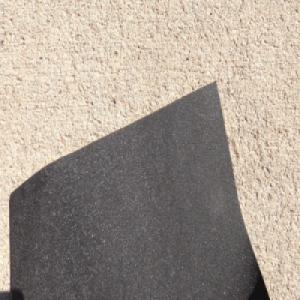PaintChip: (7, 76, 271, 300)
